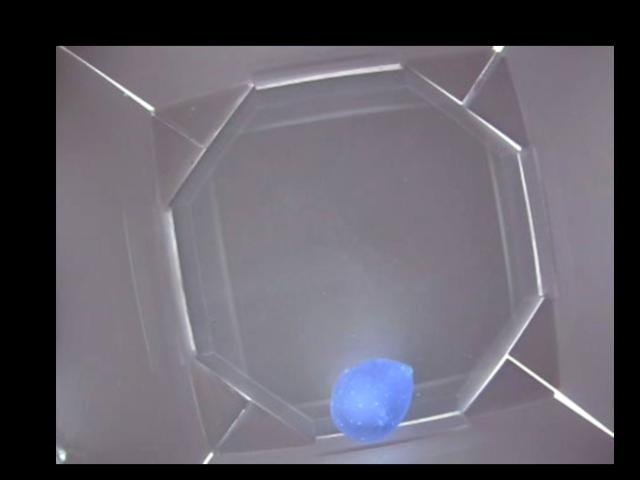Potato: (332, 357, 416, 445)
